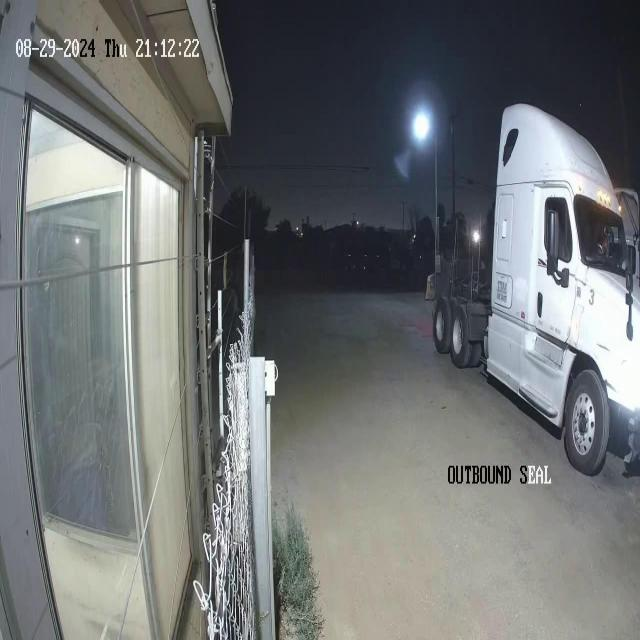TRUCK_IN: (431, 101, 639, 477)
